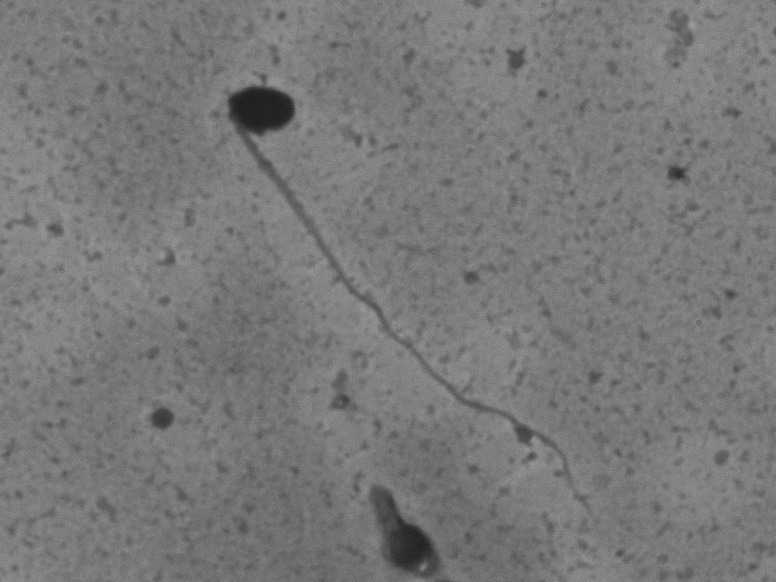Abnormal: (189, 71, 624, 515)
